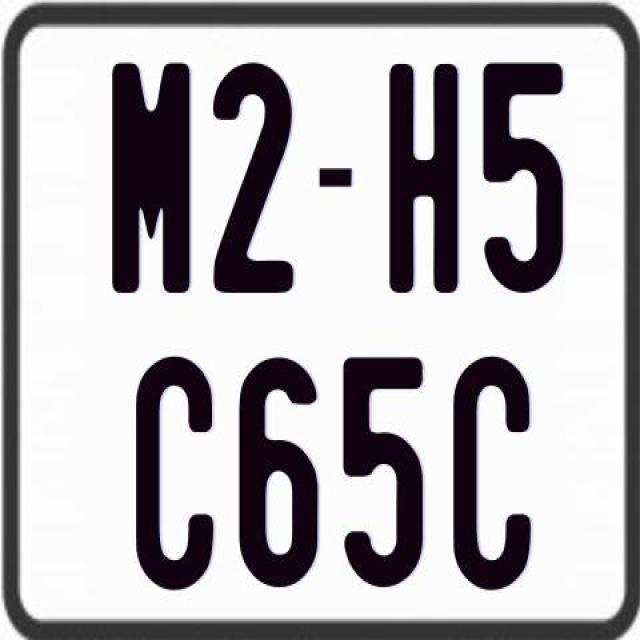2: (209, 60, 292, 298)
5: (342, 356, 427, 594), (478, 61, 558, 301)
6: (236, 352, 319, 592)
C: (449, 356, 531, 594), (133, 354, 211, 594)
H: (390, 64, 462, 293)
M: (109, 59, 191, 294)
